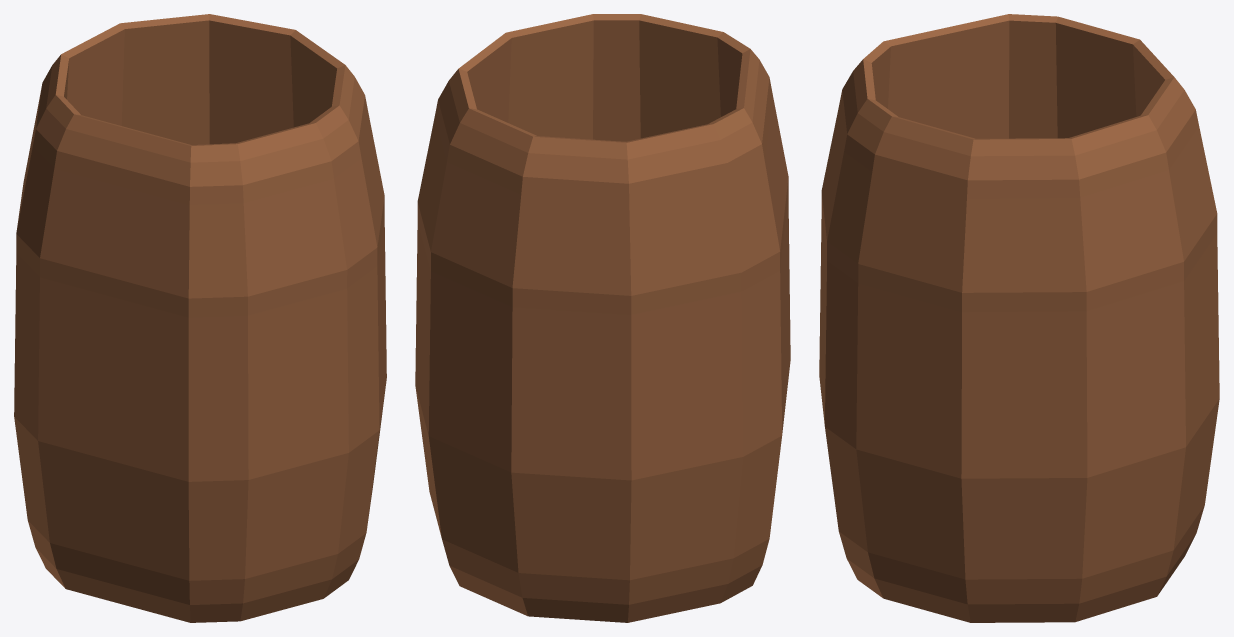
The model's file is Barrel.fbx.
The picture shows the model from 3 angles, left to right: view 1: azimuth 30°, elevation 25°; view 2: azimuth 150°, elevation 25°; view 3: azimuth 270°, elevation 25°; orthographic projection.
Parts seen in each view (by area): view 1: Barrel; view 2: Barrel; view 3: Barrel.
Boxes of the visible parts, x1,y1,x2,y2 form: Barrel: (14,14,386,622); Barrel: (415,14,790,622); Barrel: (819,14,1219,622).
Size of the model in its own units: 1.18 by 1.64 by 1.24.
